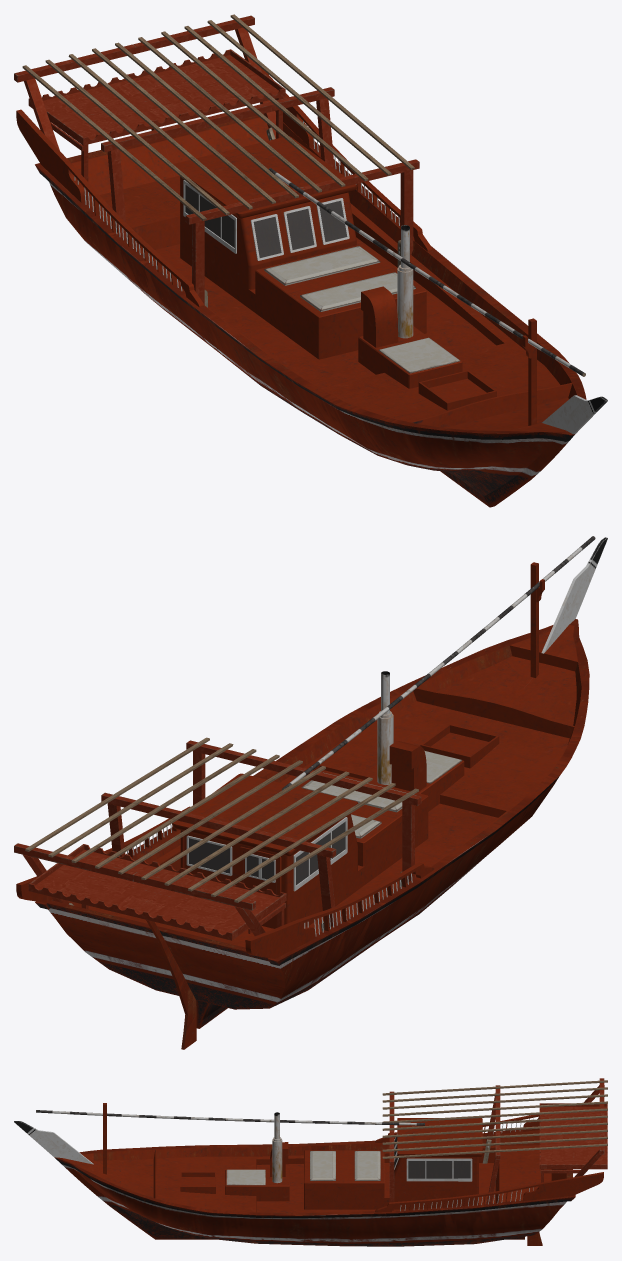
File: Boat04.dae
3 views of the same model, one above another, from view 1: azimuth 30°, elevation 25°; view 2: azimuth 150°, elevation 25°; view 3: azimuth 270°, elevation 25° (orthographic). The views are drawn at different scales.
Visible parts, largest first — view 1: Dhow_04; view 2: Dhow_04; view 3: Dhow_04.
Part boxes in pixels (<box>): Dhow_04: <box>14,14,607,507</box>; Dhow_04: <box>14,536,607,1049</box>; Dhow_04: <box>14,1078,607,1246</box>.
Size of the model in its own units: 674 by 2289 by 602.
1 material, 1 textured.
